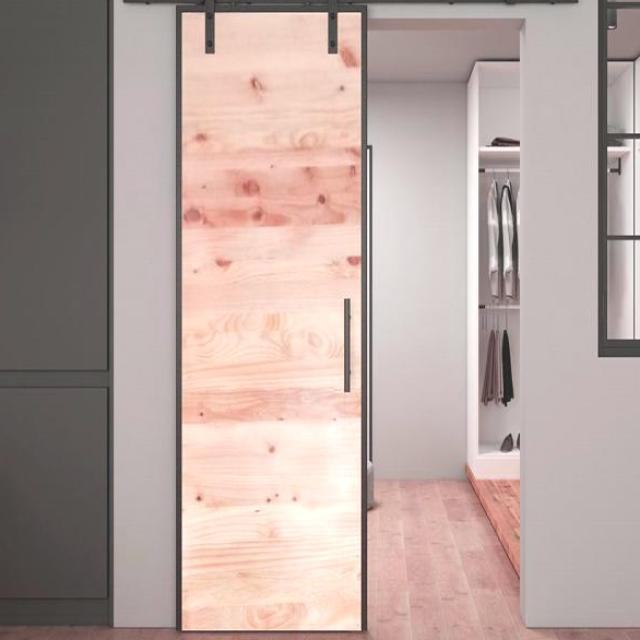door: (176, 3, 368, 631)
